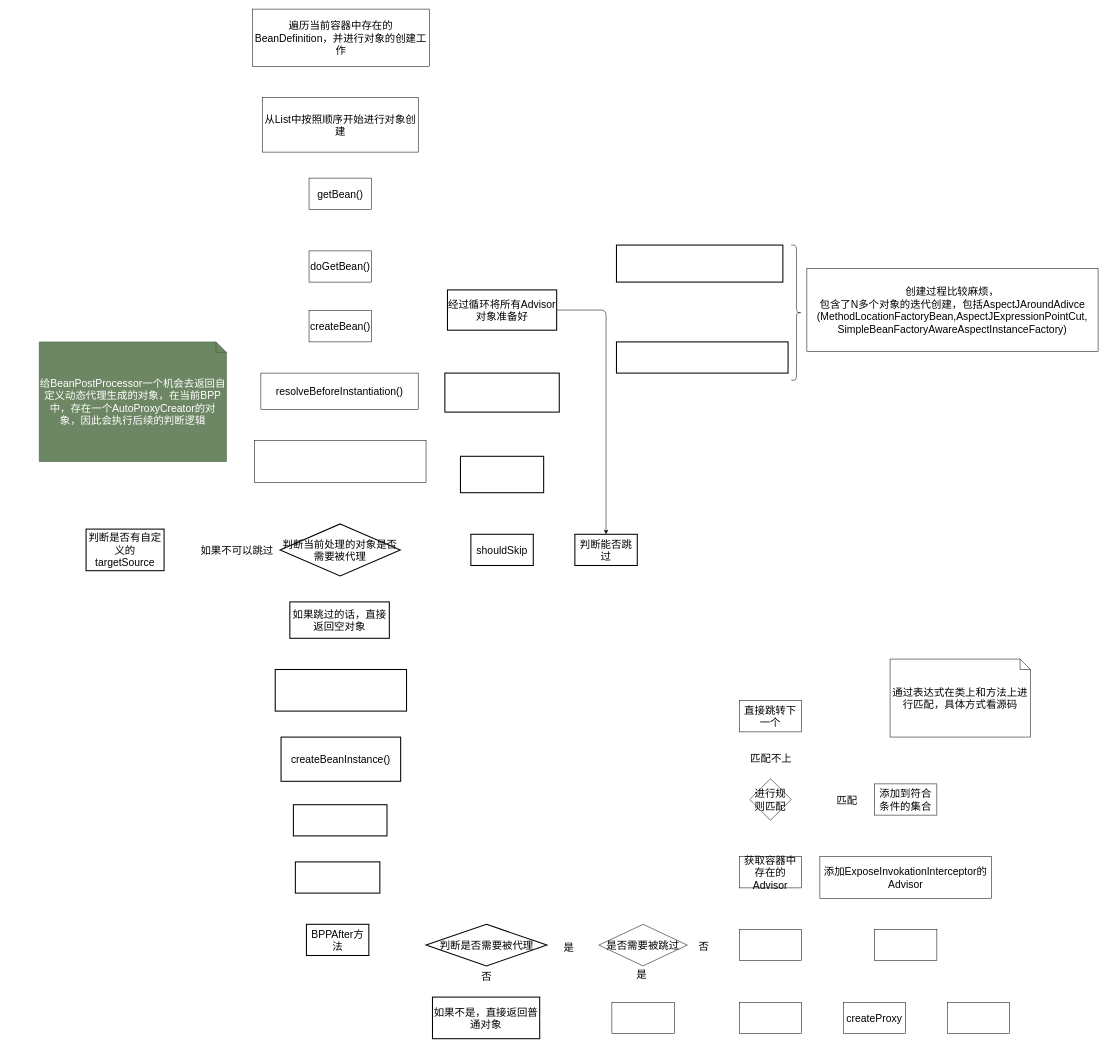
This 1107x1048 diagram has some shape labels left out. Here are the shapes that lost their labels. From the top down, the centre of each, then its label:
(x=699, y=263): findCandicateAdvisor()
(x=702, y=357): buildAdvisor()标注了@Aspect切面的对象
(x=502, y=392): 遍历当前容器中存在的Advisor的beanDefinition
(x=340, y=461): postProcessBeforeInstantiation()
(x=502, y=474): 创建动态代理需要的Advisor对象
(x=340, y=690): doCreateBean
(x=340, y=820): populateBean
(x=337, y=877): initializeBean
(x=770, y=945): 获取符合条件的Advisor
(x=905, y=945): 进行排序操作
(x=642, y=1018): 直接返回普通对象
(x=770, y=1018): 进行代理的创建
(x=978, y=1018): 未完待续...
